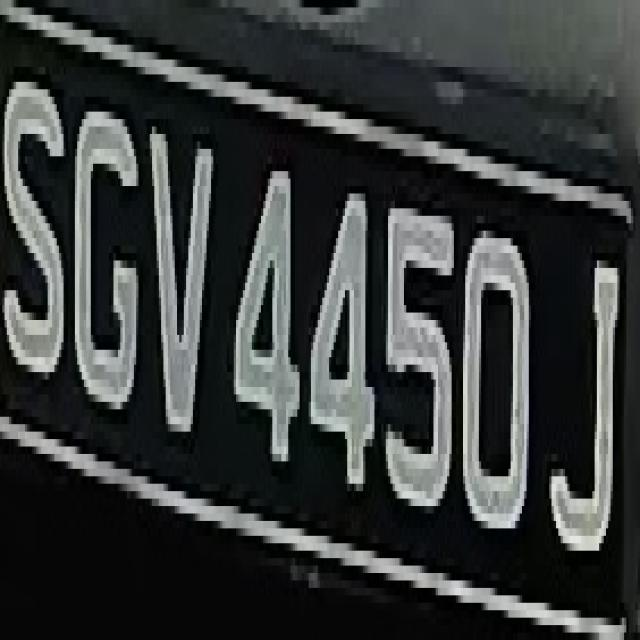0: (458, 201, 542, 551)
4: (229, 126, 309, 484), (309, 127, 381, 506)
5: (386, 141, 452, 521)
G: (64, 74, 138, 432)
J: (547, 178, 626, 580)
S: (7, 38, 66, 394)
V: (139, 97, 220, 461)
